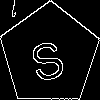S: (24, 30, 69, 84)
